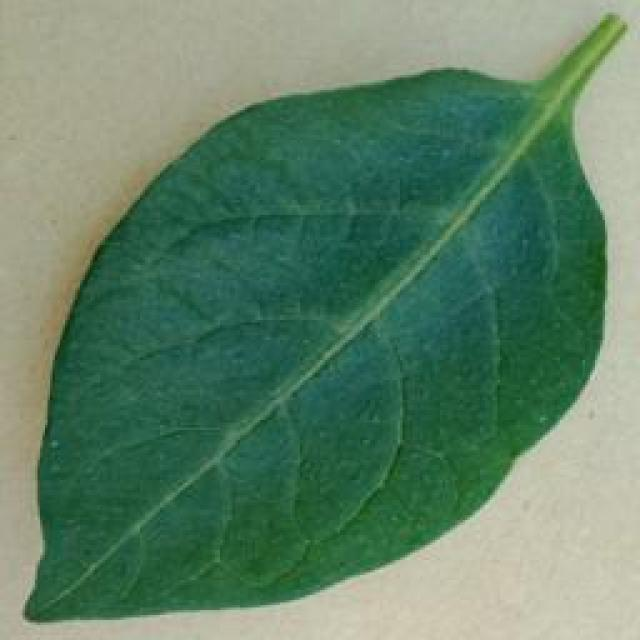Potato_Healthy: (25, 15, 619, 622)
